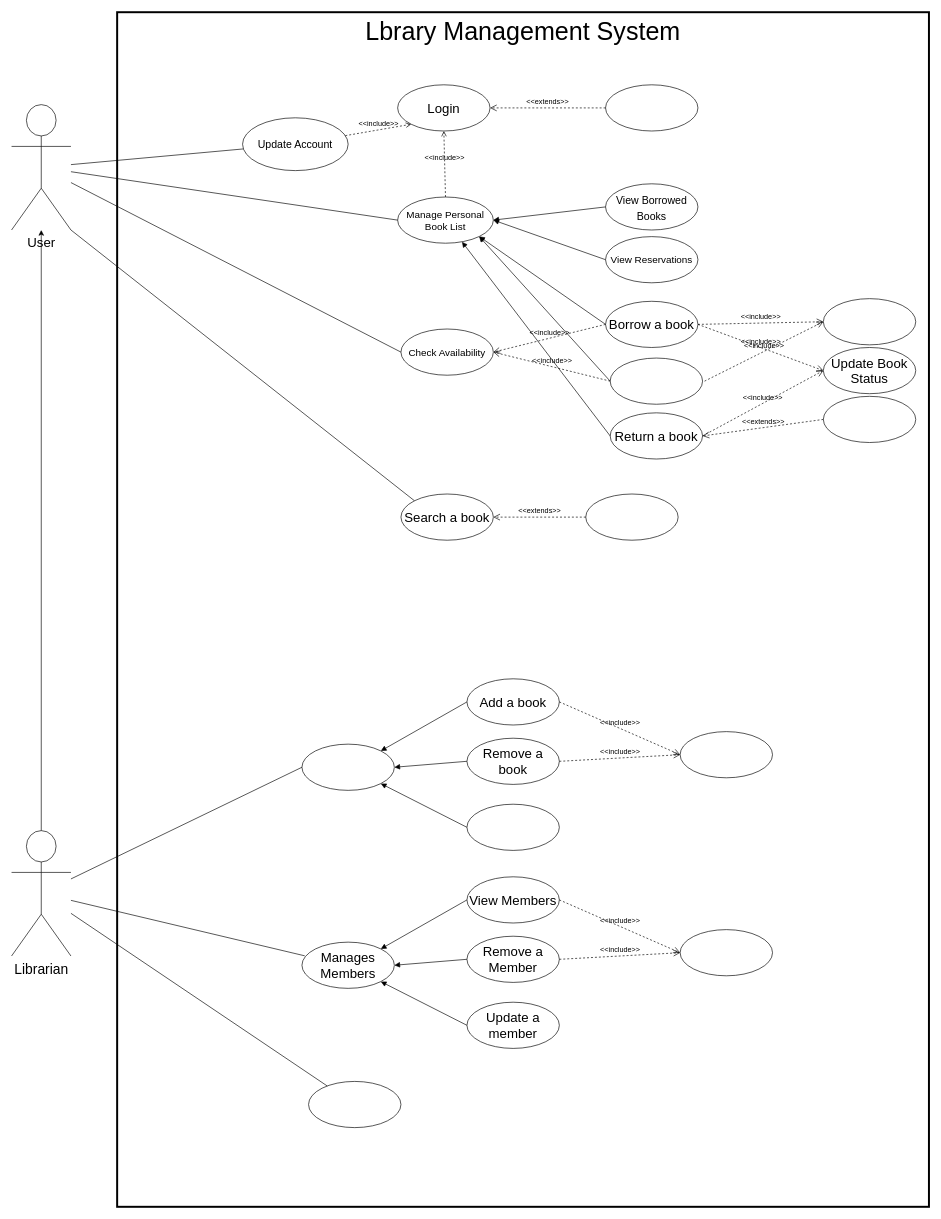
The diagram is 941 pixels wide and 1219 high, and some of its shapes have lost their labels. Each missing label, with the centre of its shape:
Check Eligibility: [869,321]
Generates reports: [354,1104]
Manages Books: [347,766]
Pay a fine: [869,419]
Register: [651,107]
Reserve a book: [656,380]
Update a book: [512,827]
Update Inventory: [726,754]
Update Members List: [726,952]
View book details: [631,516]
